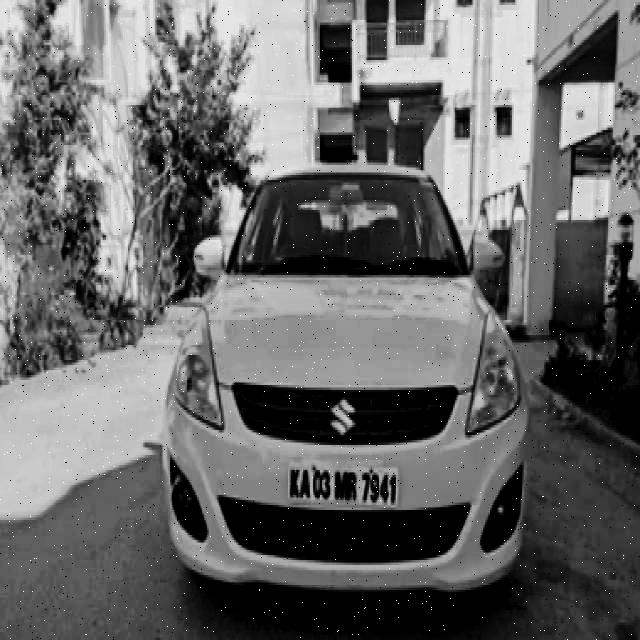Car: (156, 154, 538, 614)
